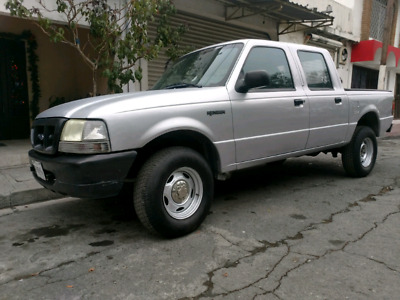car: (29, 38, 393, 229)
